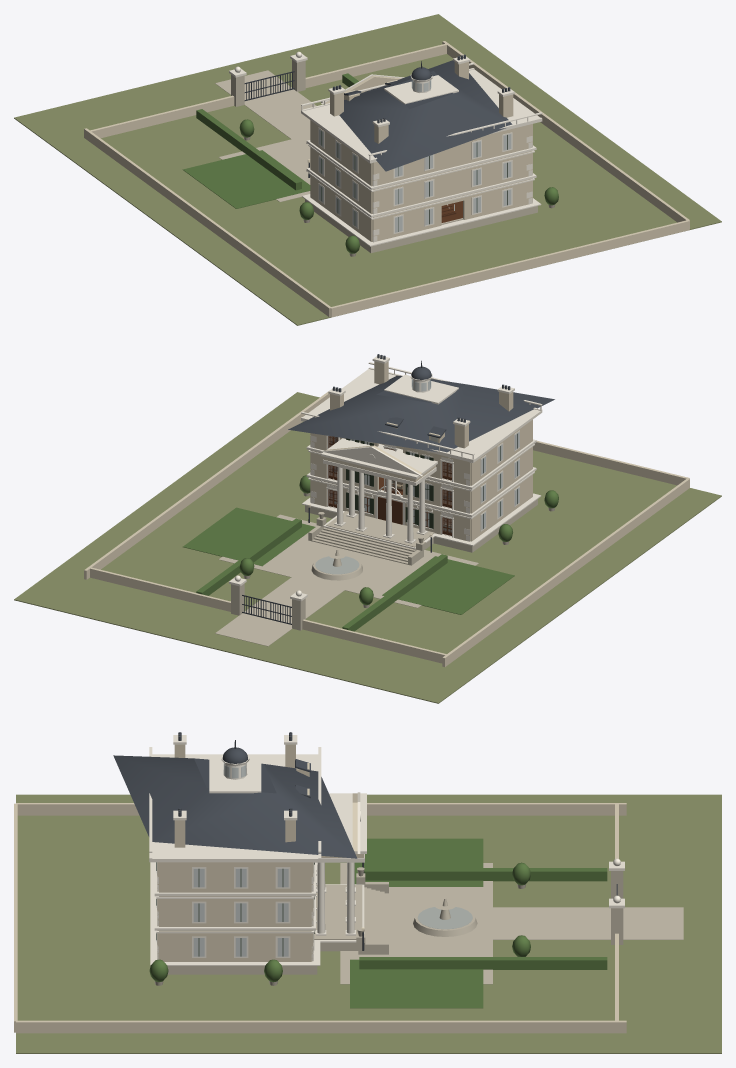
Rendered from greenwave_manor.glb.
3 views of the same model, one above another, from view 1: azimuth 30°, elevation 25°; view 2: azimuth 150°, elevation 25°; view 3: azimuth 270°, elevation 25° (orthographic). The views are drawn at different scales.
Parts seen in each view (by area): view 1: NOCOL_MAT_Ground, STATIC_MAT_Wall, STATIC_MAT_Trim, STATIC_MAT_Roof, NOCOL_MAT_Foliage, NOCOL_MAT_Stone, STATIC_MAT_Glass, STATIC_MAT_Stone; view 2: NOCOL_MAT_Ground, STATIC_MAT_Wall, STATIC_MAT_Trim, NOCOL_MAT_Foliage, NOCOL_MAT_Stone, STATIC_MAT_Roof, STATIC_MAT_Stone, STATIC_MAT_Glass, STATIC_MAT_Teak, STATIC_MAT_Shutter, NOCOL_MAT_Glass; view 3: NOCOL_MAT_Ground, STATIC_MAT_Wall, NOCOL_MAT_Foliage, STATIC_MAT_Trim, STATIC_MAT_Roof, NOCOL_MAT_Stone, STATIC_MAT_Stone, STATIC_MAT_Glass, NOCOL_MAT_Glass.
Boxes of the visible parts, left/top/right/bottom form: NOCOL_MAT_Ground: left=14, top=14, right=721, bottom=325; STATIC_MAT_Wall: left=84, top=41, right=689, bottom=317; STATIC_MAT_Trim: left=301, top=56, right=542, bottom=246; STATIC_MAT_Roof: left=332, top=54, right=512, bottom=171; NOCOL_MAT_Foliage: left=182, top=73, right=558, bottom=253; NOCOL_MAT_Stone: left=215, top=60, right=555, bottom=256; STATIC_MAT_Glass: left=319, top=80, right=510, bottom=232; STATIC_MAT_Stone: left=305, top=175, right=537, bottom=253; NOCOL_MAT_Ground: left=14, top=392, right=721, bottom=703; STATIC_MAT_Wall: left=84, top=361, right=689, bottom=666; STATIC_MAT_Trim: left=301, top=355, right=542, bottom=549; NOCOL_MAT_Foliage: left=183, top=475, right=558, bottom=631; NOCOL_MAT_Stone: left=215, top=492, right=554, bottom=646; STATIC_MAT_Roof: left=288, top=354, right=554, bottom=452; STATIC_MAT_Stone: left=305, top=489, right=537, bottom=565; STATIC_MAT_Glass: left=329, top=379, right=519, bottom=532; STATIC_MAT_Teak: left=328, top=436, right=451, bottom=535; STATIC_MAT_Shutter: left=346, top=433, right=517, bottom=528; NOCOL_MAT_Glass: left=315, top=556, right=358, bottom=573; NOCOL_MAT_Ground: left=16, top=794, right=721, bottom=1053; STATIC_MAT_Wall: left=14, top=744, right=626, bottom=1033; NOCOL_MAT_Foliage: left=149, top=838, right=607, bottom=1008; STATIC_MAT_Trim: left=149, top=735, right=366, bottom=965; STATIC_MAT_Roof: left=113, top=732, right=357, bottom=858; NOCOL_MAT_Stone: left=154, top=863, right=683, bottom=985; STATIC_MAT_Stone: left=167, top=867, right=388, bottom=974; STATIC_MAT_Glass: left=194, top=765, right=288, bottom=956; NOCOL_MAT_Glass: left=418, top=907, right=472, bottom=928.
Bounding box in the file's own units: 64 × 21.37 × 74.2.
